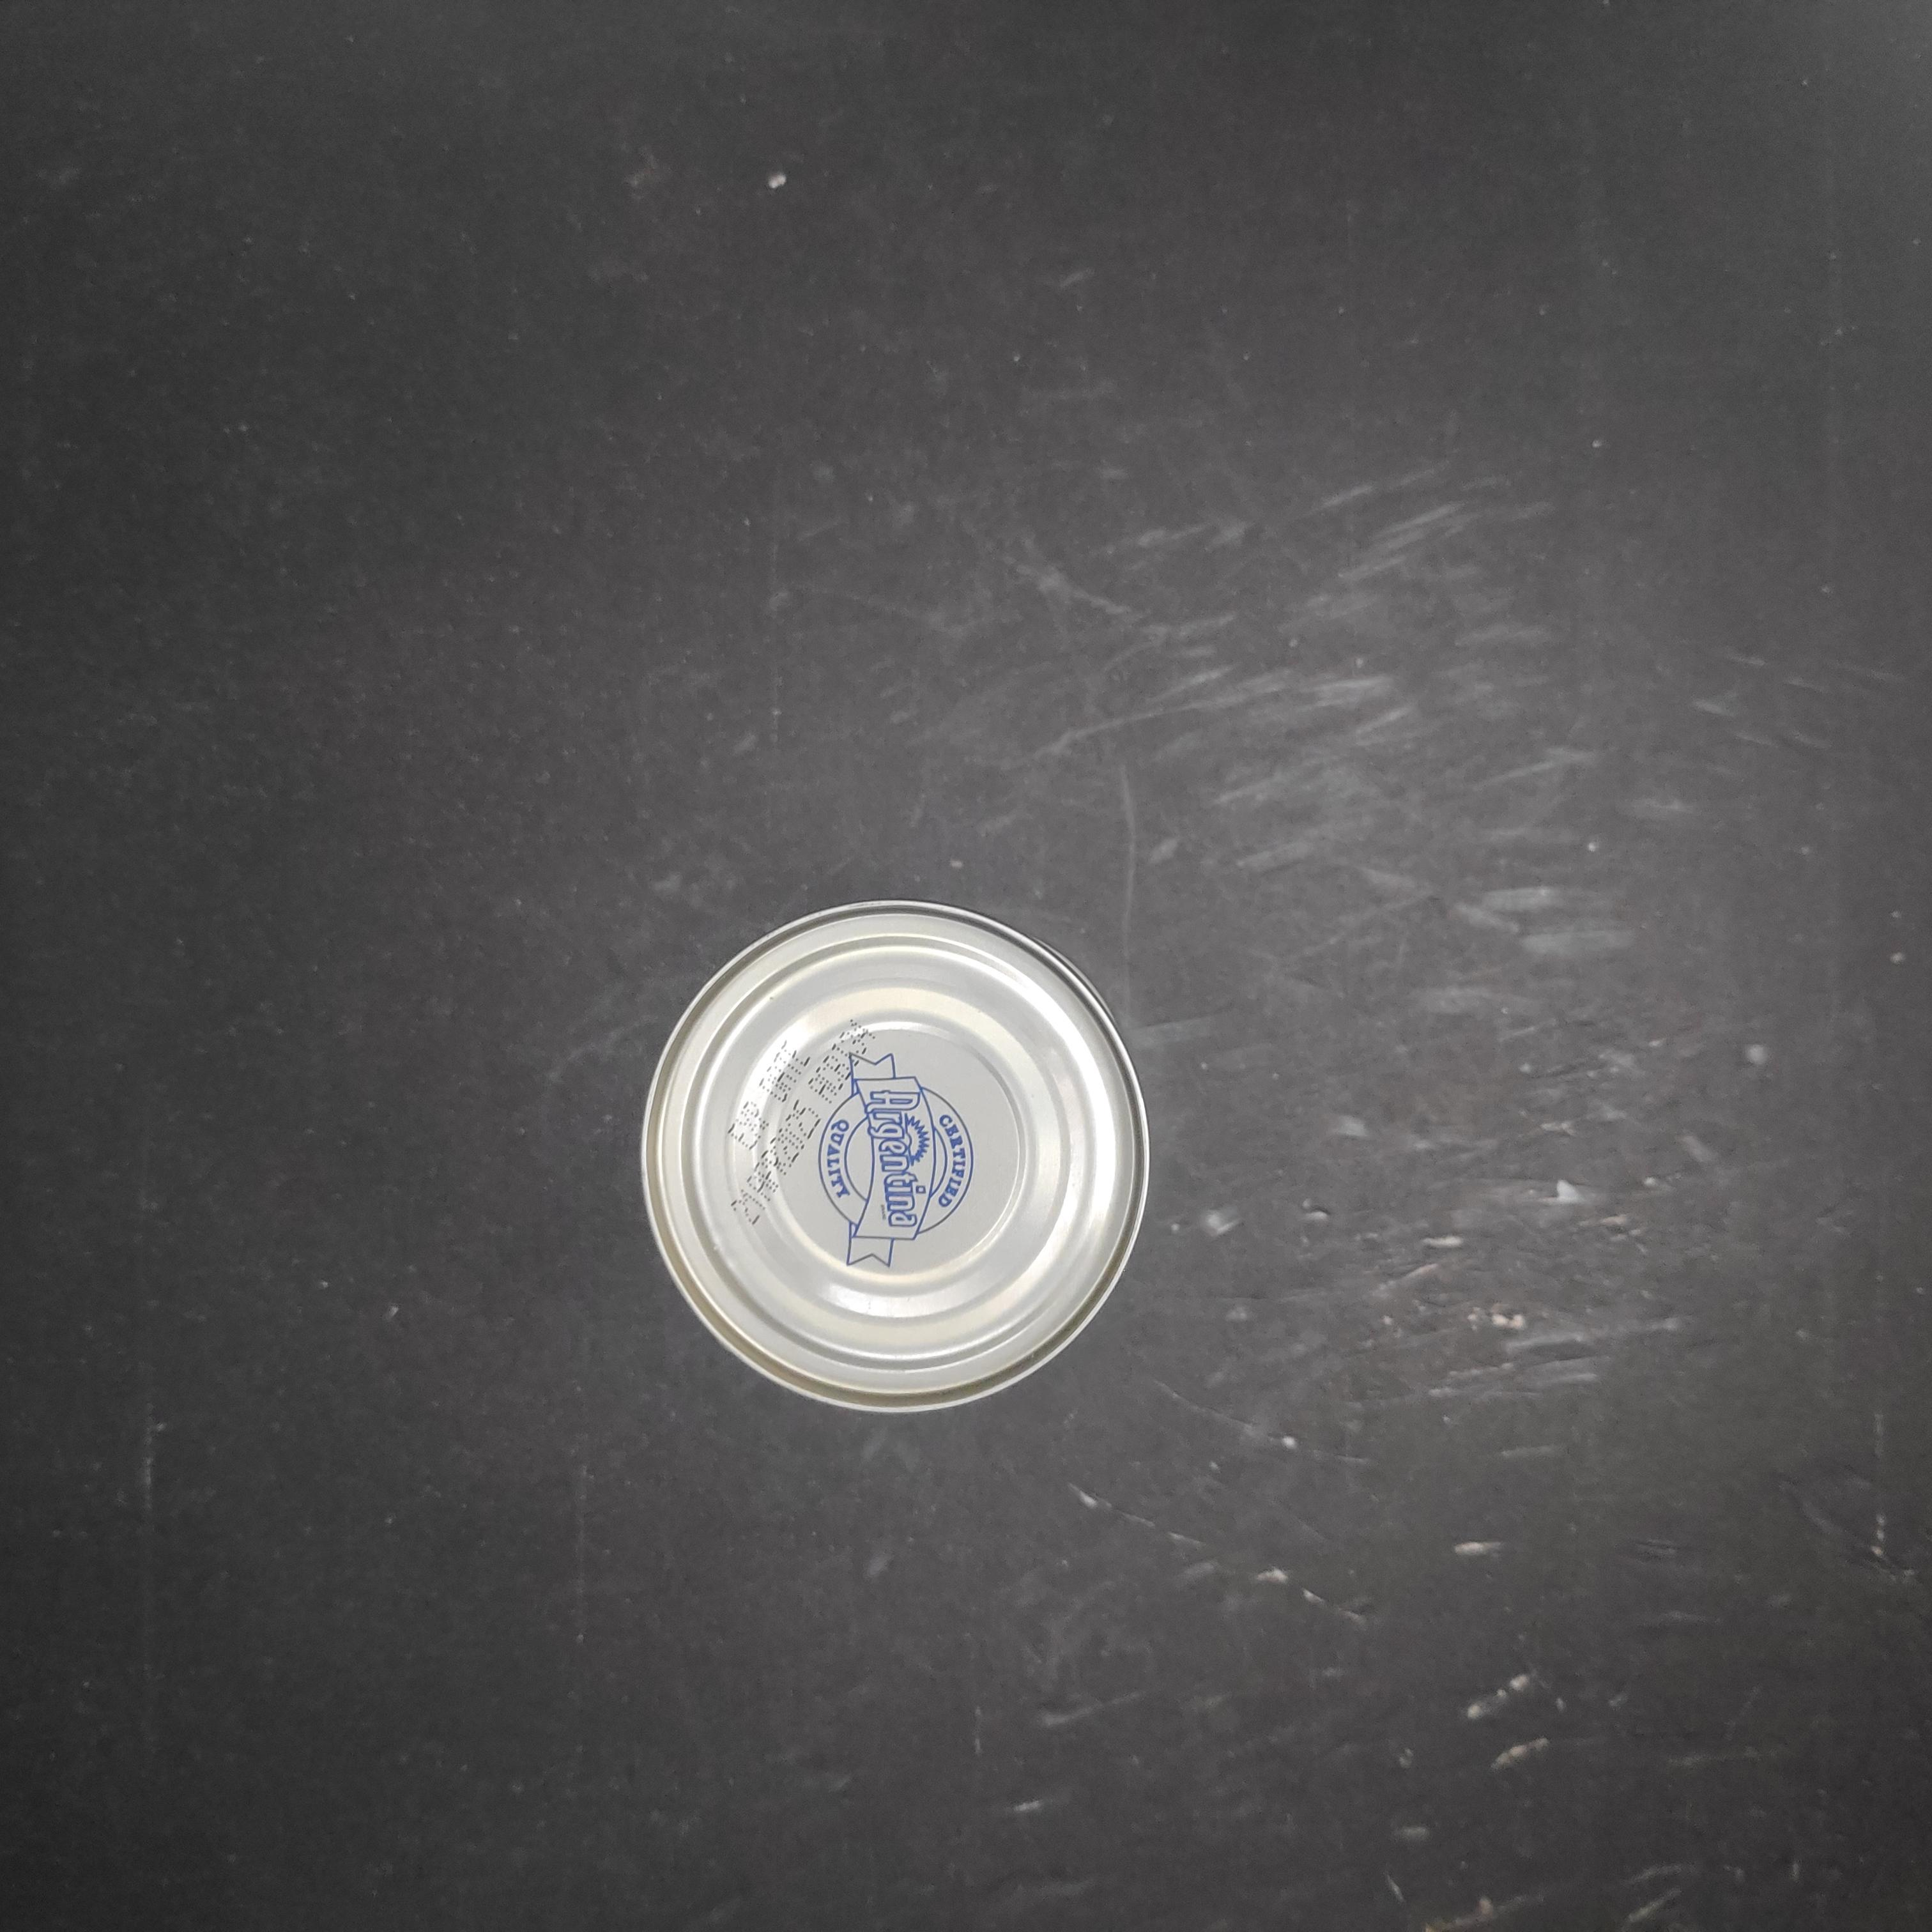No defect: (639, 897, 1152, 1417)
